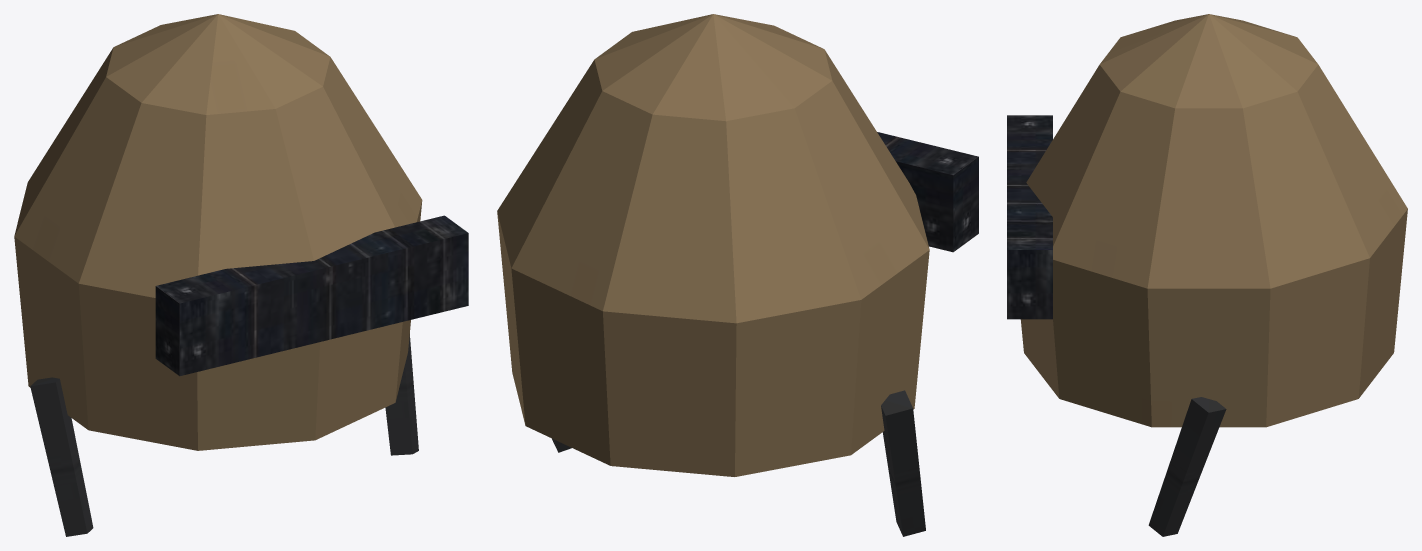
Rendered from eq_present_2_head.glb.
The picture shows the model from 3 angles, left to right: view 1: azimuth 30°, elevation 25°; view 2: azimuth 150°, elevation 25°; view 3: azimuth 270°, elevation 25°; orthographic projection. The views are drawn at different scales.
Parts seen in each view (by area): view 1: eq_present_2_head; view 2: eq_present_2_head; view 3: eq_present_2_head.
Boxes of the visible parts, <box> form: eq_present_2_head: <box>14,14,468,536</box>; eq_present_2_head: <box>497,14,978,536</box>; eq_present_2_head: <box>1007,14,1407,536</box>.
Bounding box in the file's own units: 0.2709 × 0.3203 × 0.262.
3 materials, 3 textured.
